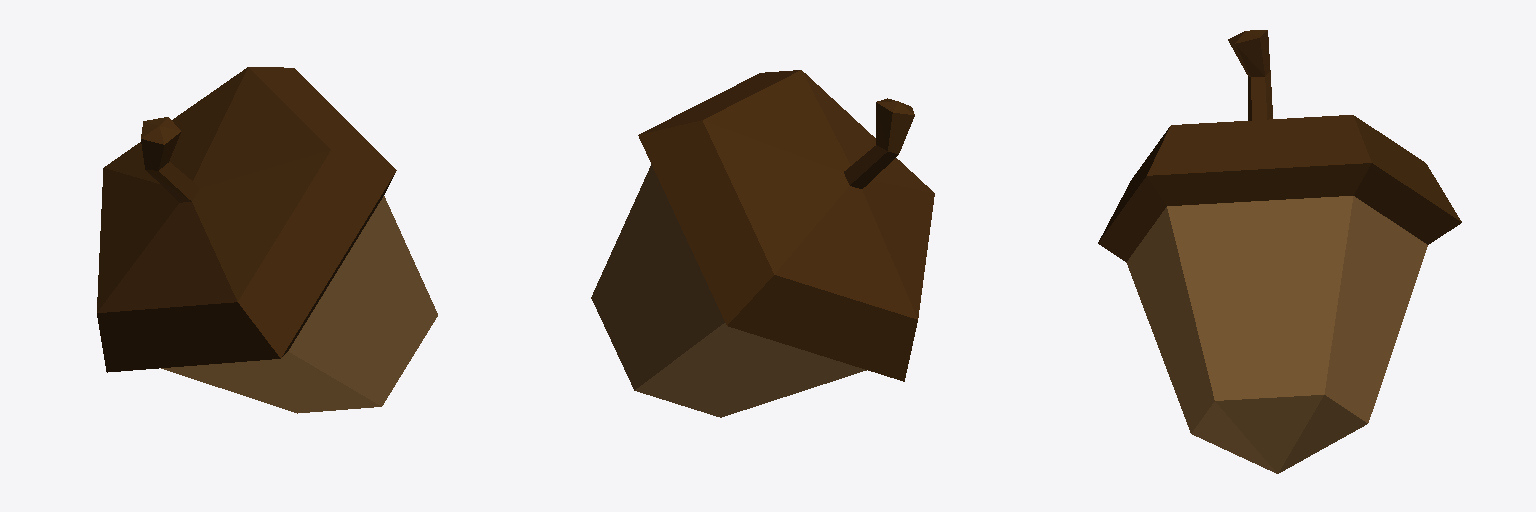
File: Gland.obj
3 renders of one model, left to right at view 1: azimuth 30°, elevation 25°; view 2: azimuth 150°, elevation 25°; view 3: azimuth 270°, elevation 25°, orthographic.
Size of the model in its own units: 6.03 by 6.35 by 6.15.